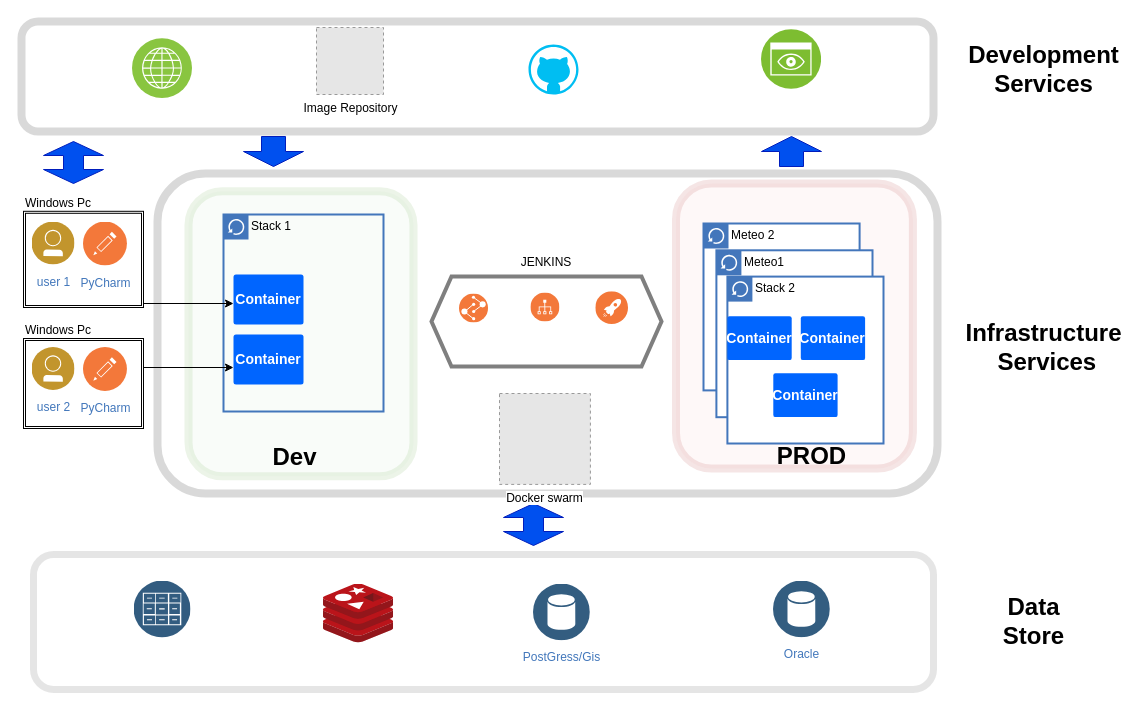
Some shapes in this 1138 by 710 pixel diagram are drawn without their labels. Grey dashed boxes stand in for pictures. Here are the shapes that lost their labels. From the top down, the centre of each, then its label:
point 162,68: CONDA channel
point 553,69: DXT repo
point 791,59: Monitoring EKL- Graphana
point 473,307: Build & Test
point 545,307: Release Management
point 611,307: Deploy
point 162,608: meteoclub
point 358,613: Redis
